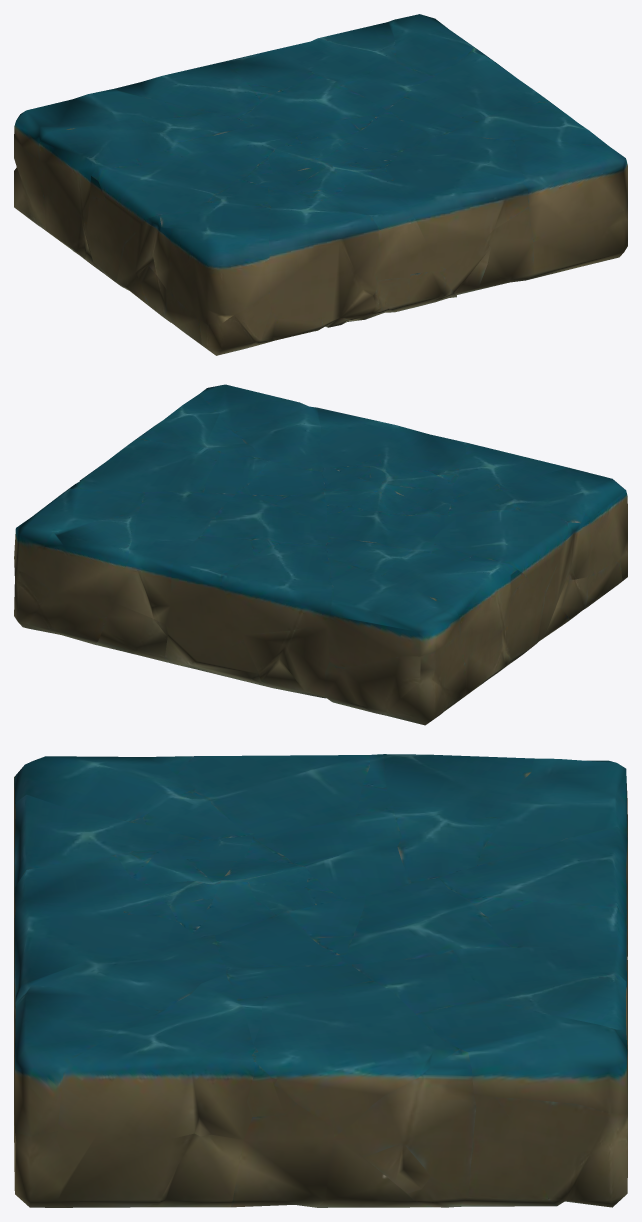
File: water.glb
3 renders of one model, top to bottom at view 1: azimuth 30°, elevation 25°; view 2: azimuth 150°, elevation 25°; view 3: azimuth 270°, elevation 25°, orthographic. The views are drawn at different scales.
Size of the model in its own units: 1.9 by 0.455 by 1.59.
Materials: 1 (1 with a texture image).
